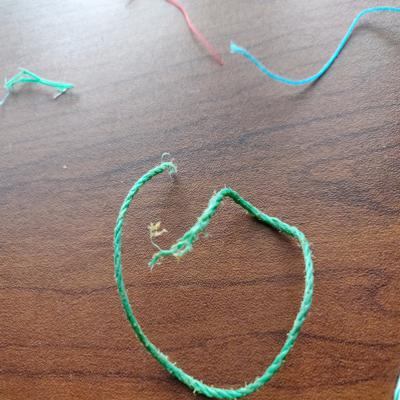thread: (108, 150, 319, 400), (226, 1, 400, 96), (124, 1, 224, 72), (1, 66, 78, 121)
